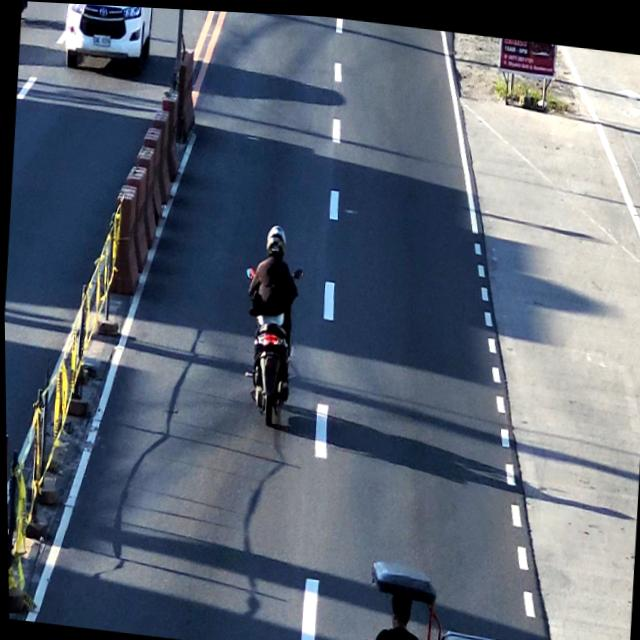Motorcycle: (237, 223, 305, 431)
Tricycle: (357, 554, 504, 640)
